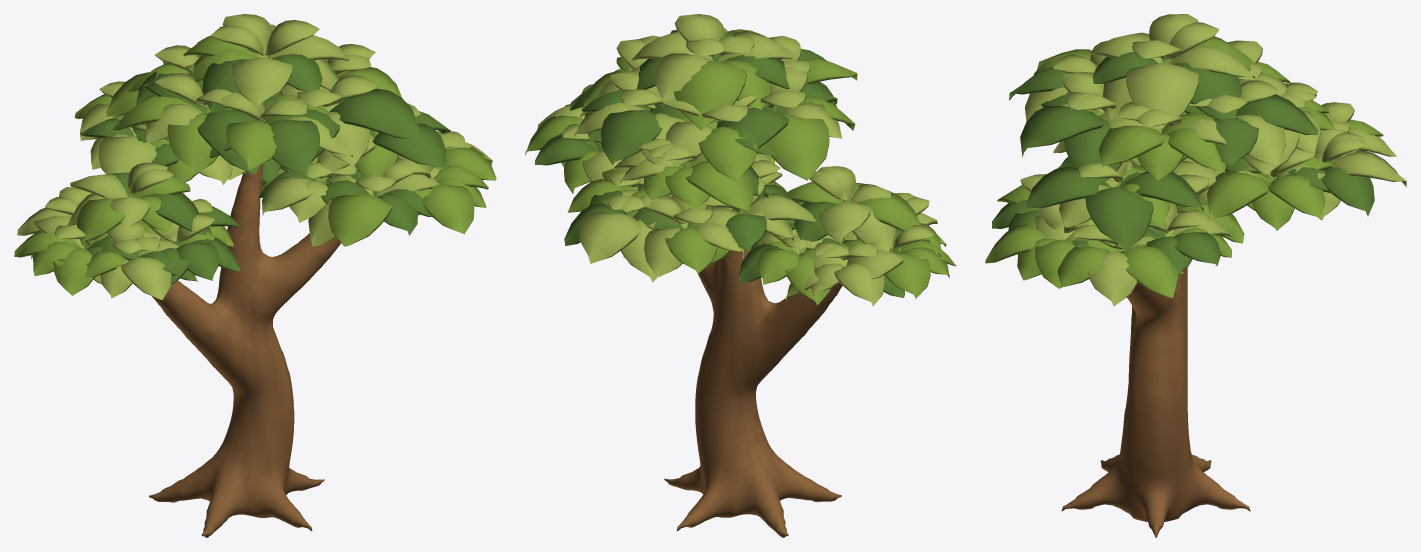
The model's file is sapling.glb.
The picture shows the model from 3 angles, left to right: view 1: azimuth 30°, elevation 25°; view 2: azimuth 150°, elevation 25°; view 3: azimuth 270°, elevation 25°; orthographic projection. The views are drawn at different scales.
Parts seen in each view (by area): view 1: sapling · airy crown, sapling · slender forked trunk; view 2: sapling · airy crown, sapling · slender forked trunk; view 3: sapling · airy crown, sapling · slender forked trunk.
Boxes of the visible parts, <box> form: sapling · airy crown: <box>14,14,496,300</box>; sapling · slender forked trunk: <box>107,164,340,537</box>; sapling · airy crown: <box>525,14,956,306</box>; sapling · slender forked trunk: <box>664,246,842,537</box>; sapling · airy crown: <box>985,14,1406,306</box>; sapling · slender forked trunk: <box>1061,267,1250,537</box>.
Size of the model in its own units: 2.94 by 3.08 by 2.4.
